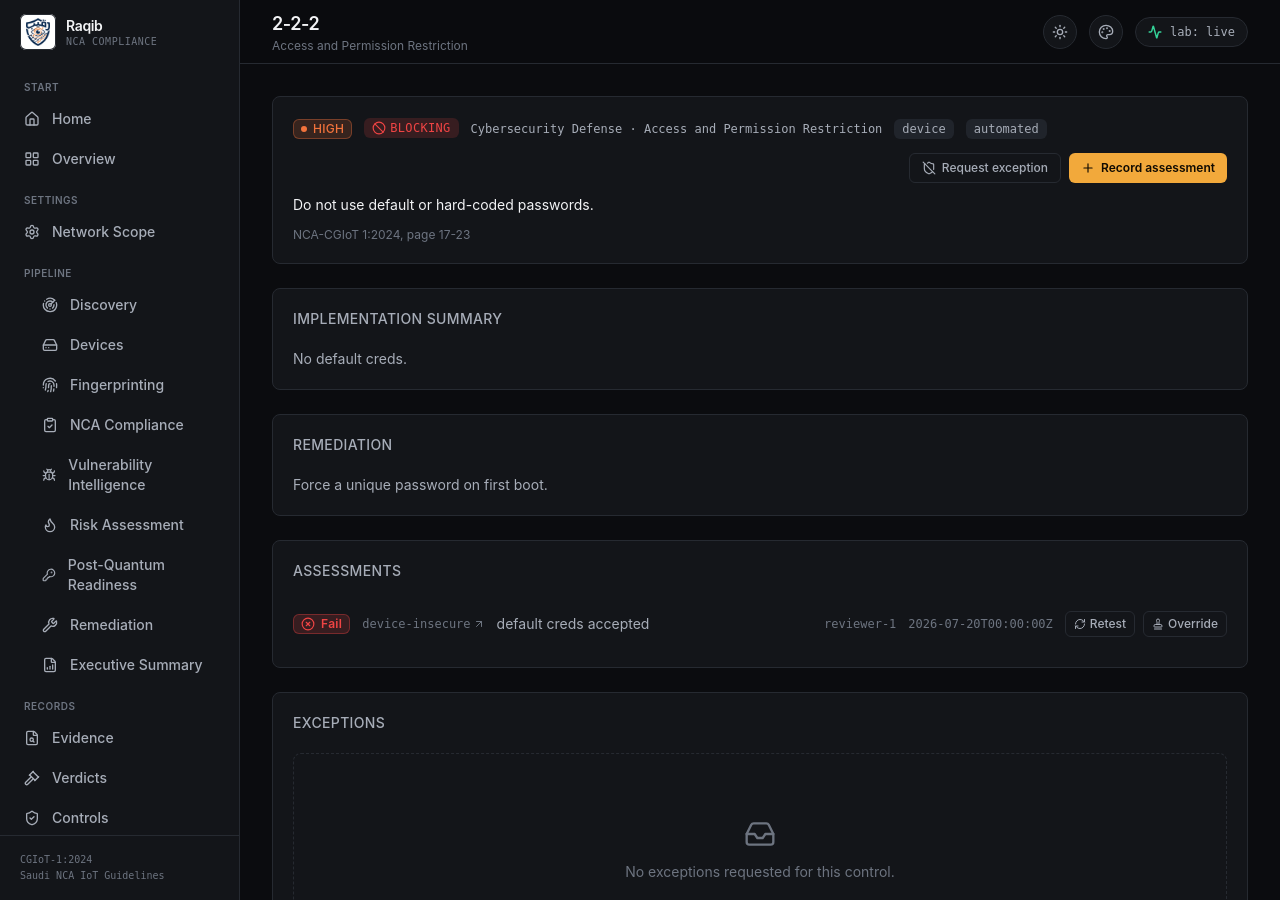
NCAControlDetailPage › opens a Retest dialog pre-filled from the current assessment
This screenshot has width=1280, height=900.
Expected: the text "default creds accepted" is shown, [497,615,649,632]
Click the button "Retest".
click(1100, 624)  # box [1065,611,1135,637]
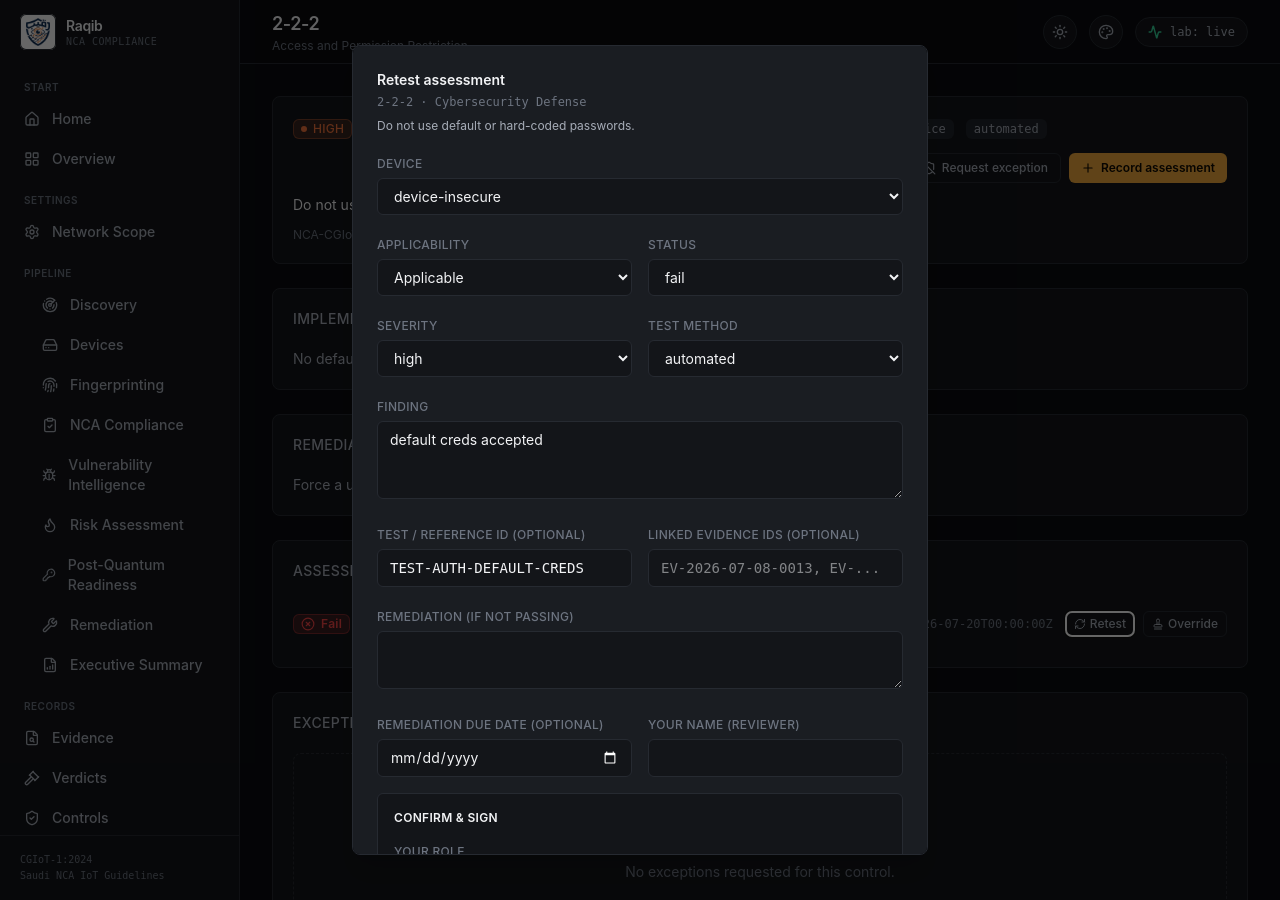
Now the heading "Retest assessment" is shown, box [377,71,505,88]
Now the text box labelled "Finding" holds "default creds accepted", box [377,421,903,499]
